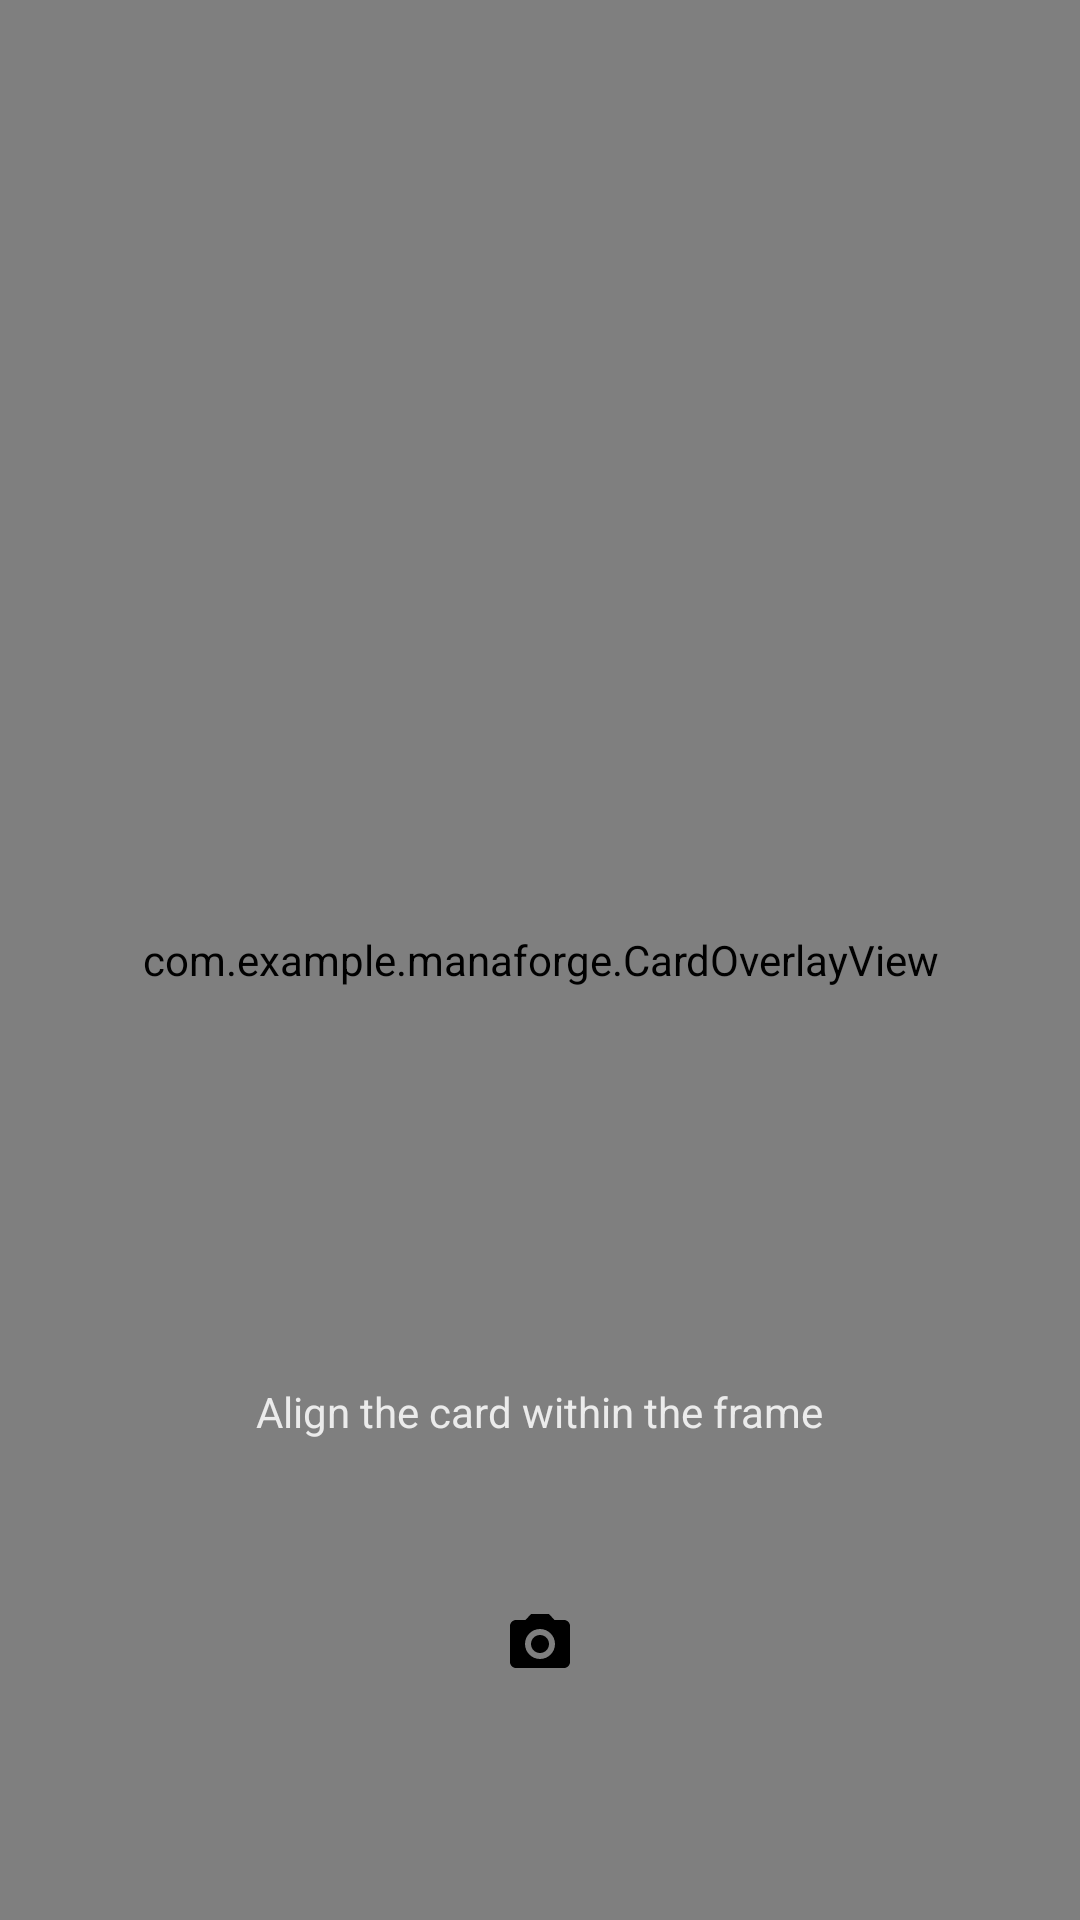

Screen size 1080×1920. Icon name, then its box in pixels as [x1, y1, x2, y2]:
Capture card: [510, 1614, 570, 1668]
